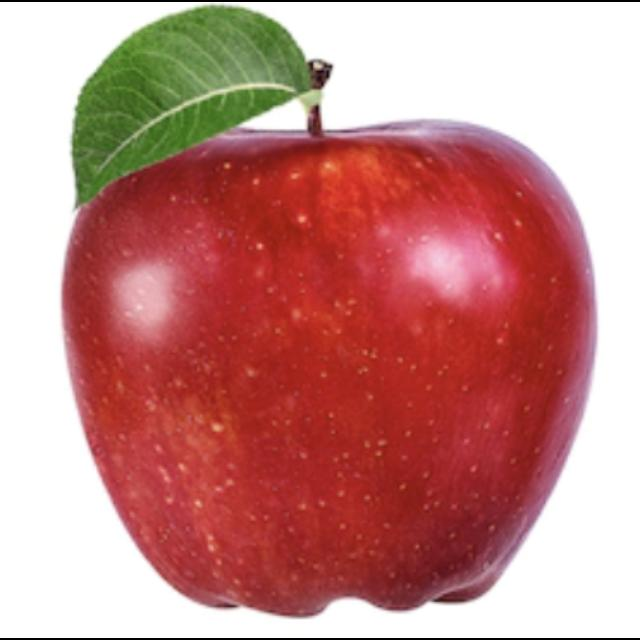Apel Segar: (43, 96, 613, 622)
